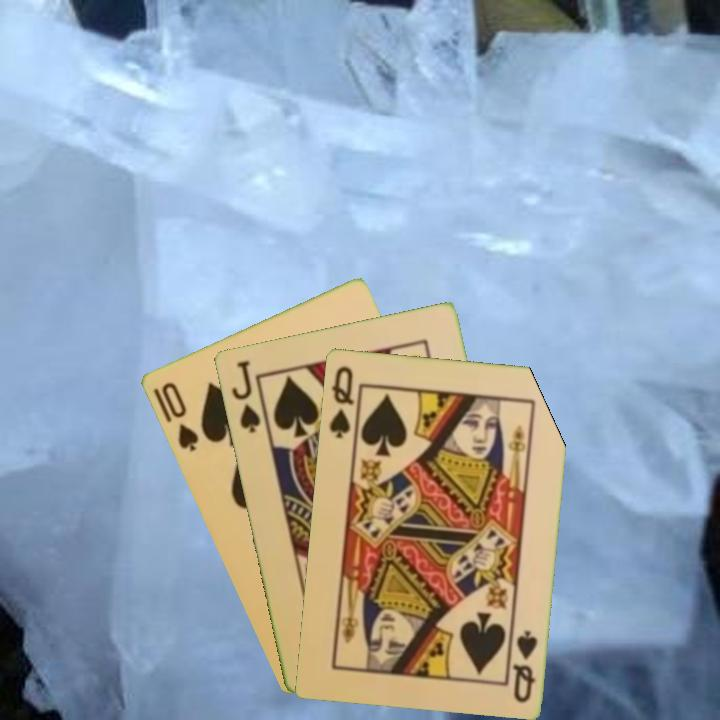10s: (157, 378, 201, 455)
Js: (227, 356, 263, 436)
Qs: (325, 362, 356, 441), (509, 626, 540, 705)
